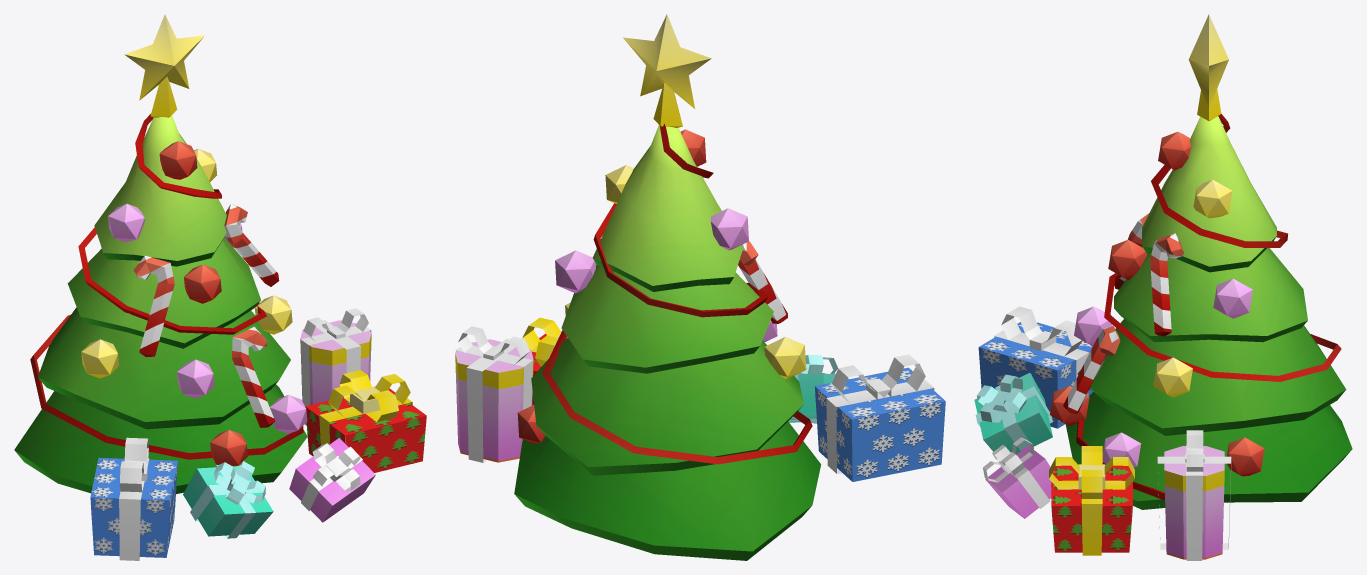
File: ny_tree_LP.fbx
3 renders of one model, left to right at view 1: azimuth 30°, elevation 25°; view 2: azimuth 150°, elevation 25°; view 3: azimuth 270°, elevation 25°, orthographic. The views are drawn at different scales.
Visible parts, largest first — view 1: Christmas_Tree, Christmas_Present_009, Christmas_Present_04, Christmas_Present_07, Christmas_Present_02, Christmas_Present_05, Christmas_Tree_Candy002, Christmas_Tree_Candy, Christmas_Tree_Candy001, Christmas_Tree_048, Christmas_Tree_047, Christmas_Tree_Ball_002 (+5 smaller); view 2: Christmas_Tree, Christmas_Present_009, Christmas_Present_02, Christmas_Present_07, Christmas_Tree_Candy002, Christmas_Tree_053, Christmas_Tree_Ball_002, Christmas_Tree_052, Christmas_Present_04, Christmas_Tree_056, Christmas_Tree_Ball_006; view 3: Christmas_Tree, Christmas_Present_04, Christmas_Present_02, Christmas_Present_009, Christmas_Present_07, Christmas_Present_05, Christmas_Tree_Candy001, Christmas_Tree_Candy, Christmas_Tree_Ball_01, Christmas_Tree_053, Christmas_Tree_Ball_006, Christmas_Tree_056 (+5 smaller).
Boxes of the visible parts, <box> form: Christmas_Tree: <box>14,14,307,493</box>; Christmas_Present_009: <box>90,437,177,560</box>; Christmas_Present_04: <box>305,370,426,472</box>; Christmas_Present_07: <box>183,461,273,538</box>; Christmas_Present_02: <box>300,308,371,425</box>; Christmas_Present_05: <box>289,438,375,522</box>; Christmas_Tree_Candy002: <box>133,255,174,356</box>; Christmas_Tree_Candy: <box>232,326,275,427</box>; Christmas_Tree_Candy001: <box>224,204,279,286</box>; Christmas_Tree_048: <box>177,359,214,398</box>; Christmas_Tree_047: <box>184,264,221,303</box>; Christmas_Tree_Ball_002: <box>81,339,118,378</box>; Christmas_Tree: <box>514,14,820,560</box>; Christmas_Present_009: <box>814,354,945,481</box>; Christmas_Present_02: <box>455,326,533,462</box>; Christmas_Present_07: <box>788,354,849,423</box>; Christmas_Tree_Candy002: <box>738,241,787,323</box>; Christmas_Tree_053: <box>555,250,595,293</box>; Christmas_Tree_Ball_002: <box>764,336,806,379</box>; Christmas_Tree_052: <box>710,208,748,250</box>; Christmas_Present_04: <box>522,317,567,405</box>; Christmas_Tree_056: <box>517,405,545,443</box>; Christmas_Tree_Ball_006: <box>605,165,633,203</box>; Christmas_Tree: <box>1065,14,1352,509</box>; Christmas_Present_04: <box>1049,446,1134,555</box>; Christmas_Present_02: <box>1157,430,1231,560</box>; Christmas_Present_009: <box>978,306,1093,428</box>; Christmas_Present_07: <box>974,373,1052,454</box>; Christmas_Present_05: <box>983,437,1051,518</box>; Christmas_Tree_Candy001: <box>1150,233,1183,336</box>; Christmas_Tree_Candy: <box>1063,326,1120,413</box>; Christmas_Tree_Ball_01: <box>1153,357,1192,397</box>; Christmas_Tree_053: <box>1213,278,1252,318</box>; Christmas_Tree_Ball_006: <box>1193,179,1232,218</box>; Christmas_Tree_056: <box>1227,437,1264,476</box>.
Bounding box in the file's own units: 303 × 270 × 364.
